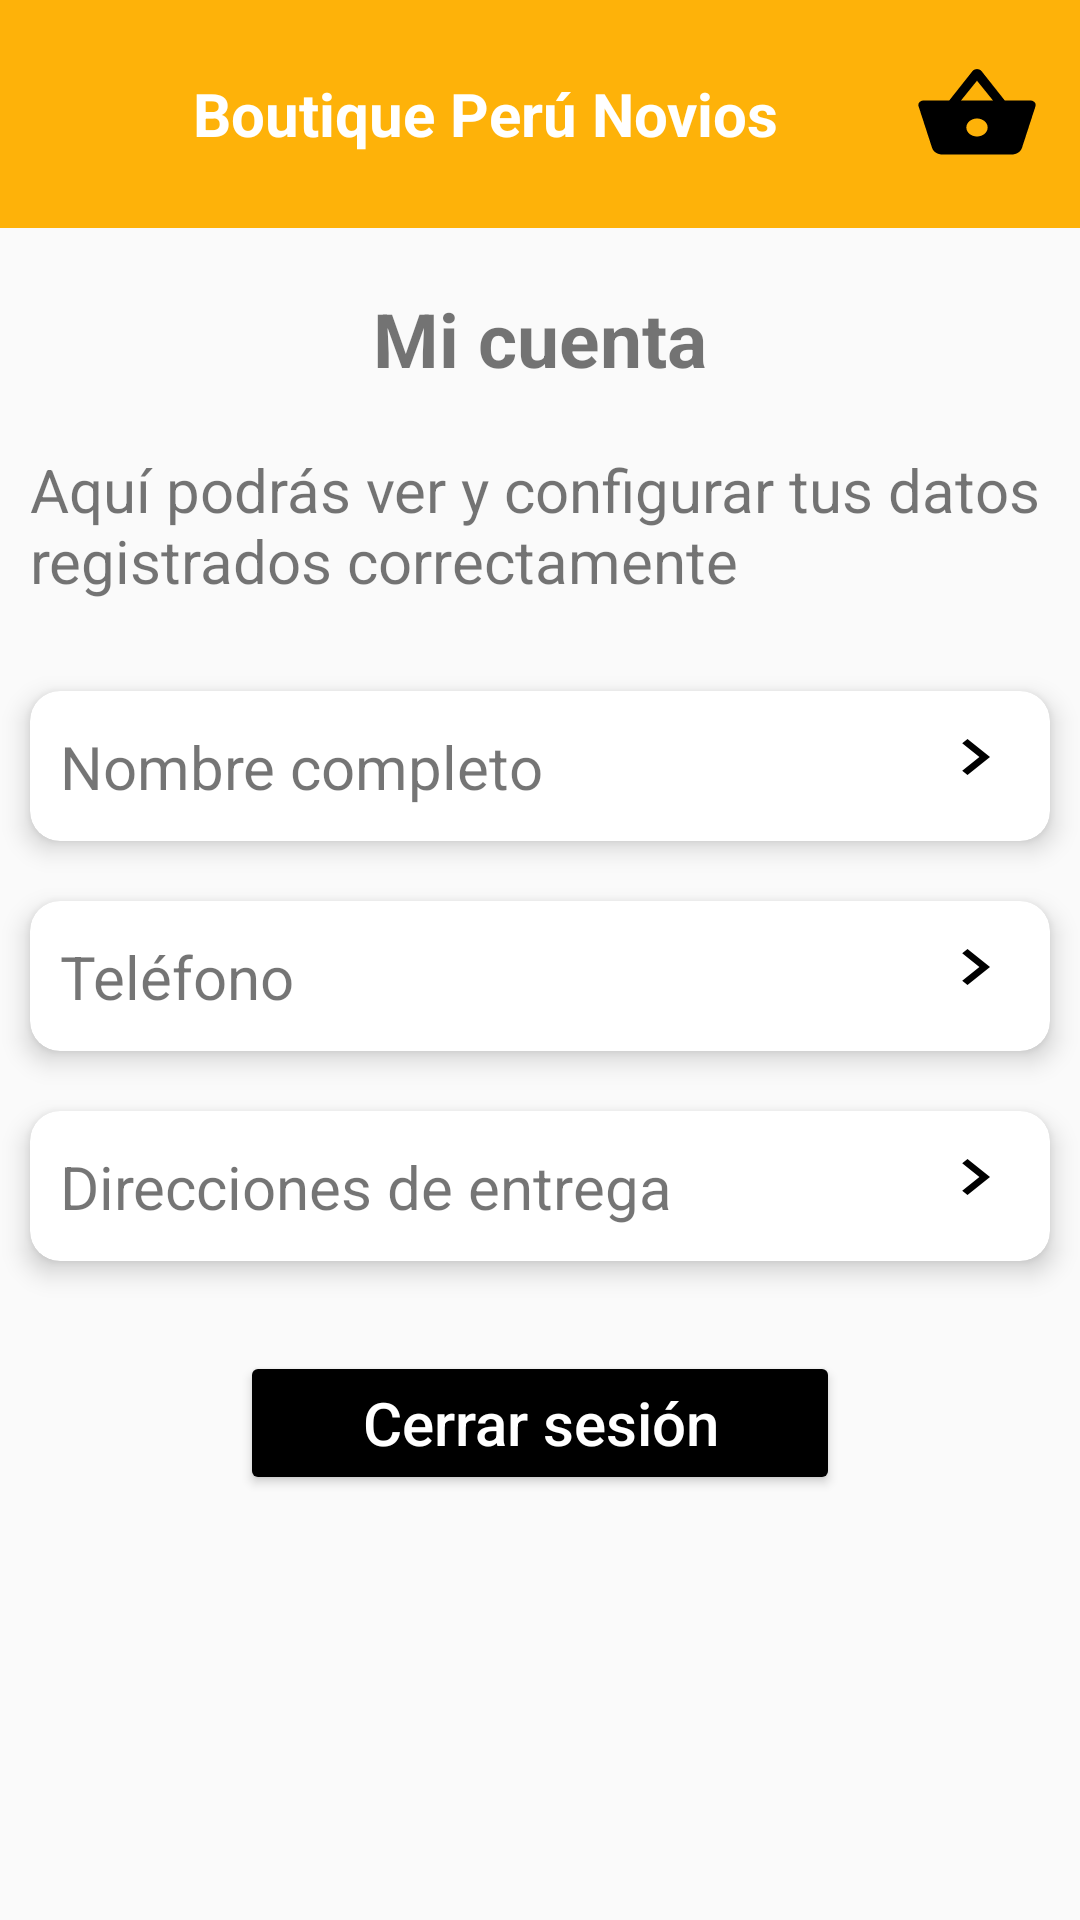

Screen size 1080px x 1920px. Icon name, then its center in pixels as point (x, y):
navigate next: point (976, 757), point (976, 967), point (976, 1177)
shopping basket: point (977, 112)
